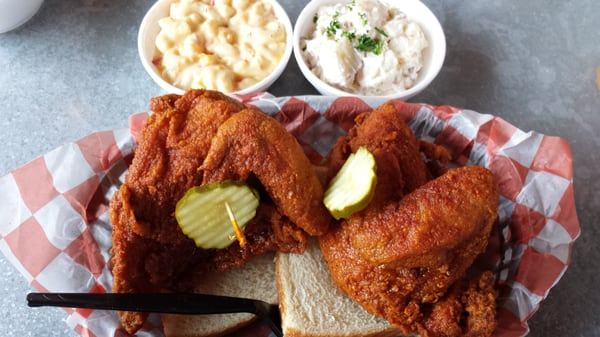sushi: (137, 1, 295, 101), (293, 1, 447, 103)
